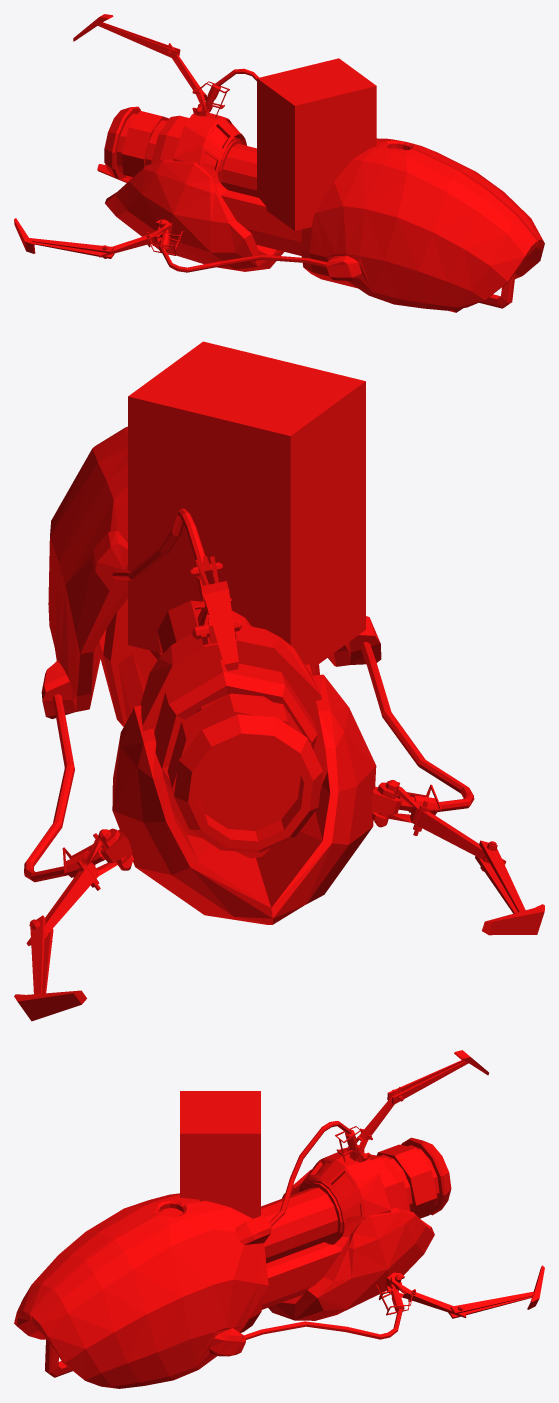
Rendered from fbb.fbx.
The picture shows the model from 3 angles, top to bottom: view 1: azimuth 30°, elevation 25°; view 2: azimuth 150°, elevation 25°; view 3: azimuth 270°, elevation 25°; orthographic projection. The views are drawn at different scales.
Visible parts, largest first — view 1: PortalGun; view 2: PortalGun; view 3: PortalGun.
Part boxes in pixels (<box>): PortalGun: <box>14,14,544,312</box>; PortalGun: <box>14,341,544,1021</box>; PortalGun: <box>14,1050,544,1388</box>.
Size of the model in its own units: 18.88 by 10.43 by 21.9.
